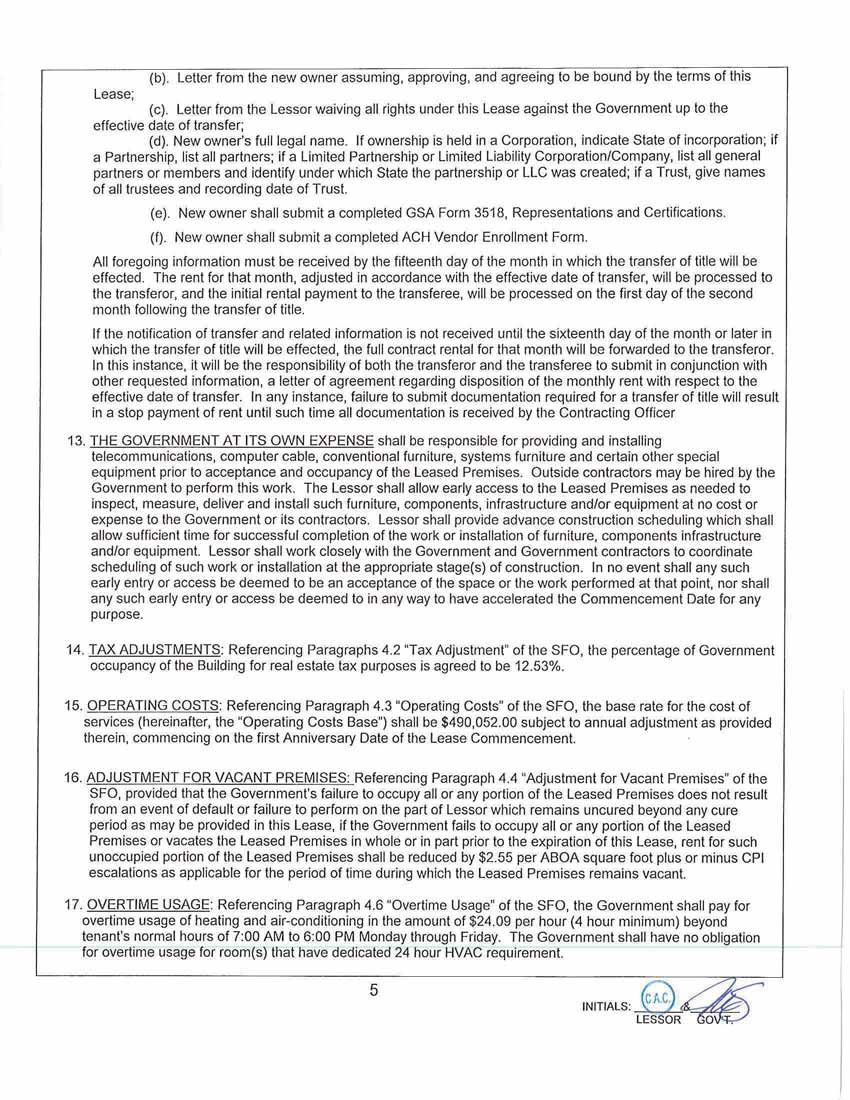handwritten: (678, 976, 773, 1023)
